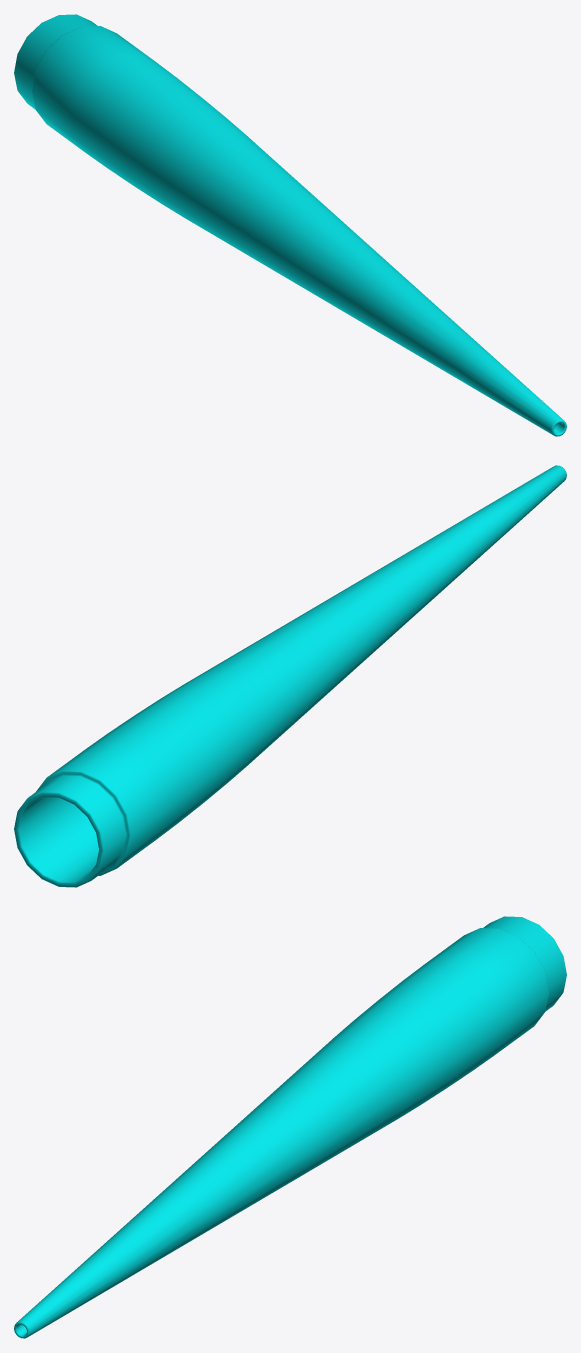
Rendered from MicroPipette_Tip.001.fbx.
The picture shows the model from 3 angles, top to bottom: view 1: azimuth 30°, elevation 25°; view 2: azimuth 150°, elevation 25°; view 3: azimuth 330°, elevation 25°; orthographic projection.
Parts seen in each view (by area): view 1: GEO_MicroPippetteTip; view 2: GEO_MicroPippetteTip; view 3: GEO_MicroPippetteTip.
Boxes of the visible parts, x1,y1,x2,y2 form: GEO_MicroPippetteTip: [14, 14, 566, 436]; GEO_MicroPippetteTip: [14, 465, 566, 887]; GEO_MicroPippetteTip: [14, 916, 566, 1338].
Bounding box in the file's own units: 14.9 × 14.9 × 130.
